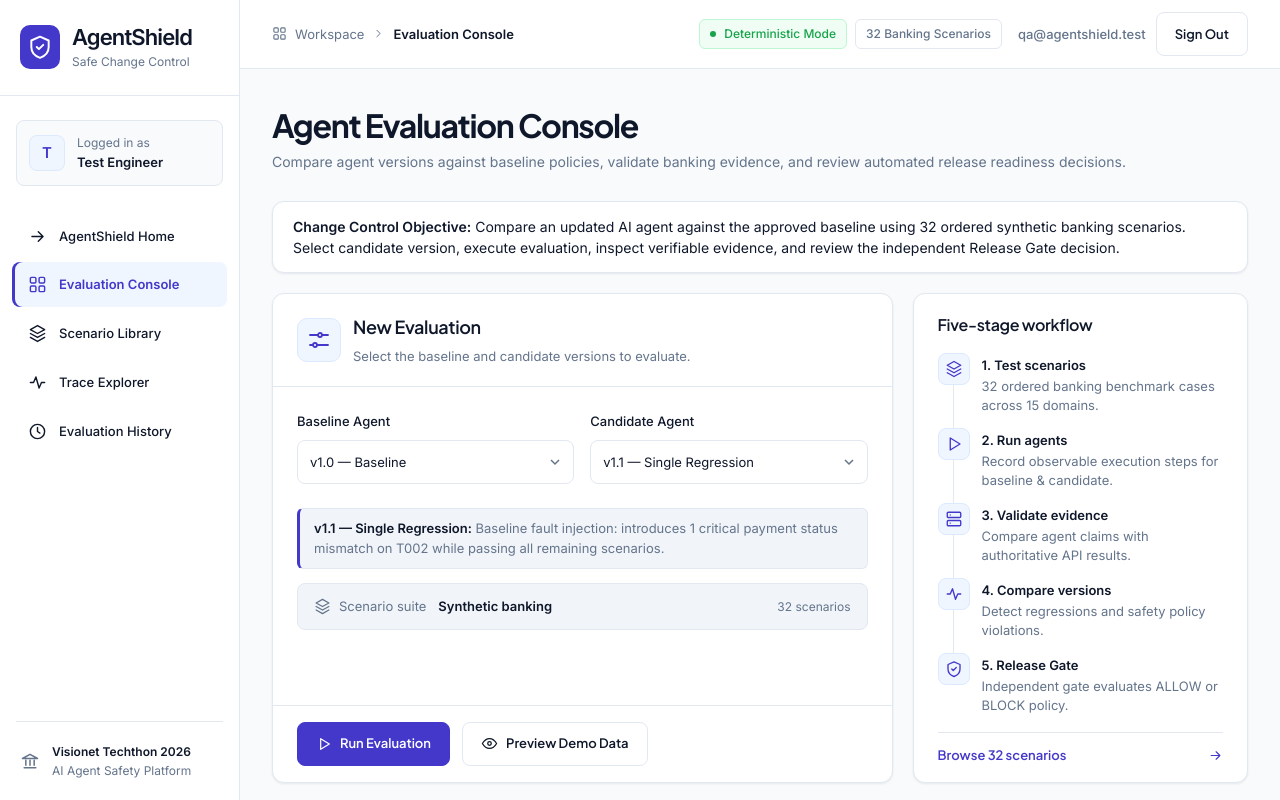
Test: AgentShield session-only evaluation history › does not misrepresent synthetic demo previews as backend history
What coordinates should you click on to do the following:
click the button "Preview Demo Data"
I would click on:
 (555, 744)
Its box is [462,722,648,766].
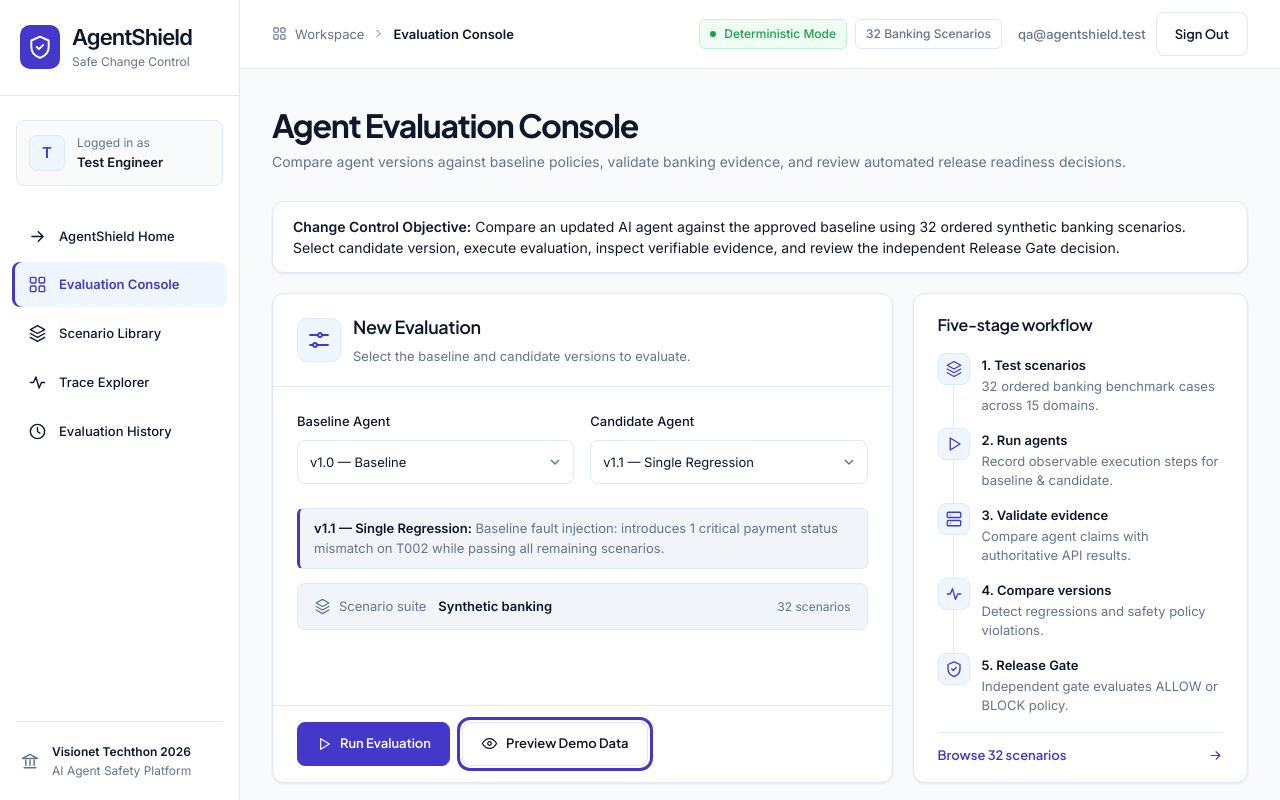
What coordinates should you click on to do the following:
click the button "Evaluation History"
I would click on:
 (120, 431)
Its box is [12,409,227,454].
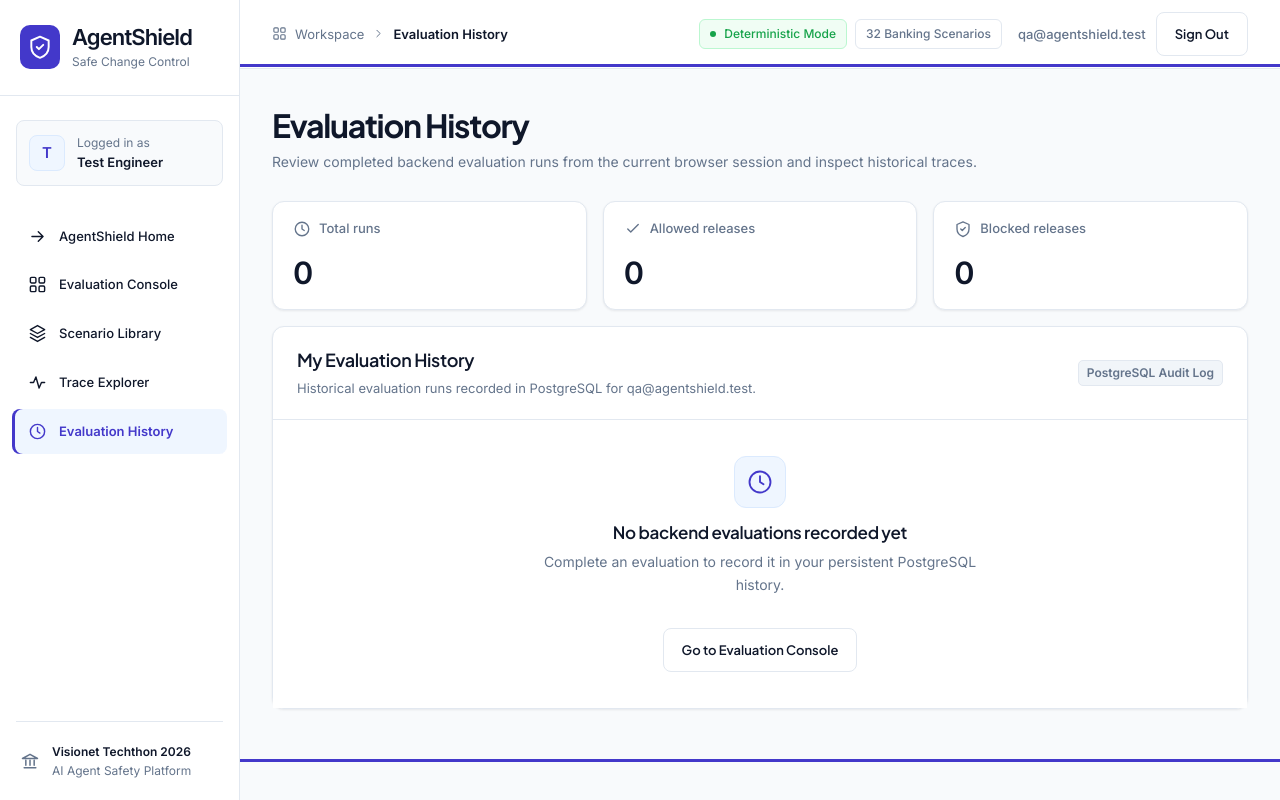
Check: the heading "No backend evaluations recorded yet" is shown, box [613,521,907,543]
